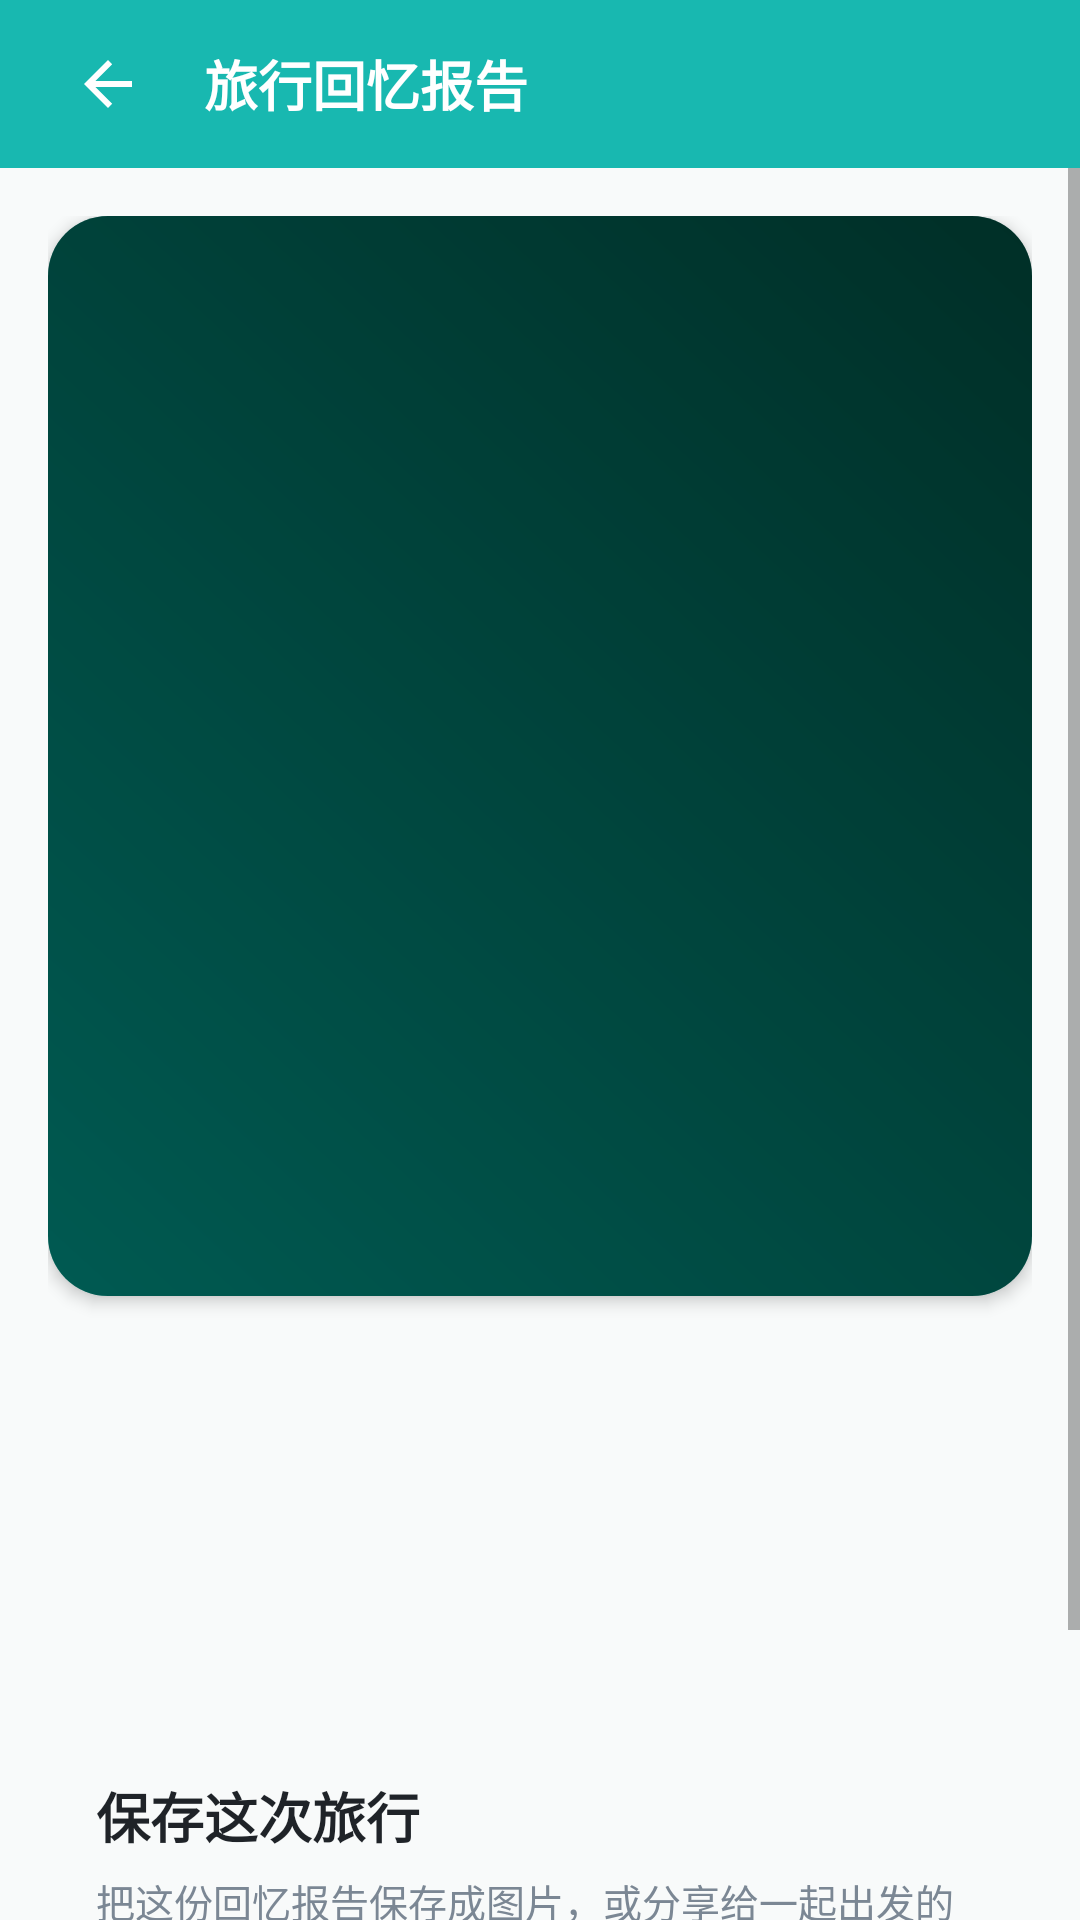

Where to tap for icons on this 1080 × 1920 app screen, as point (x, y):
返回: point (108, 84)
